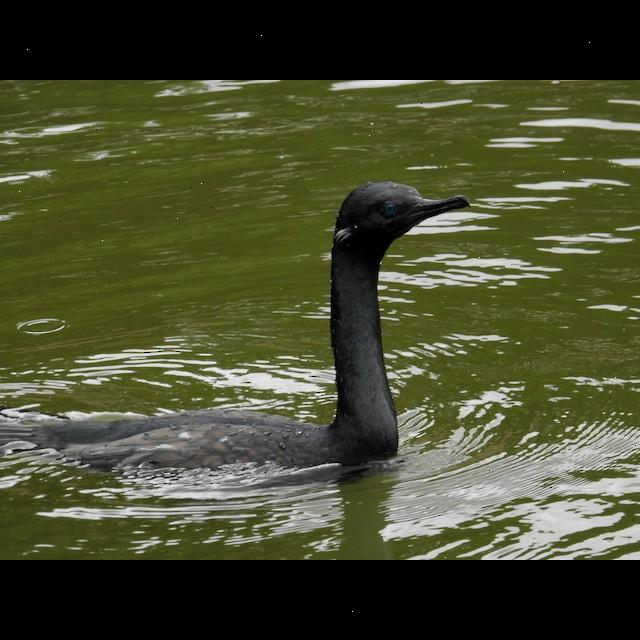cormorant: (4, 181, 472, 475)
